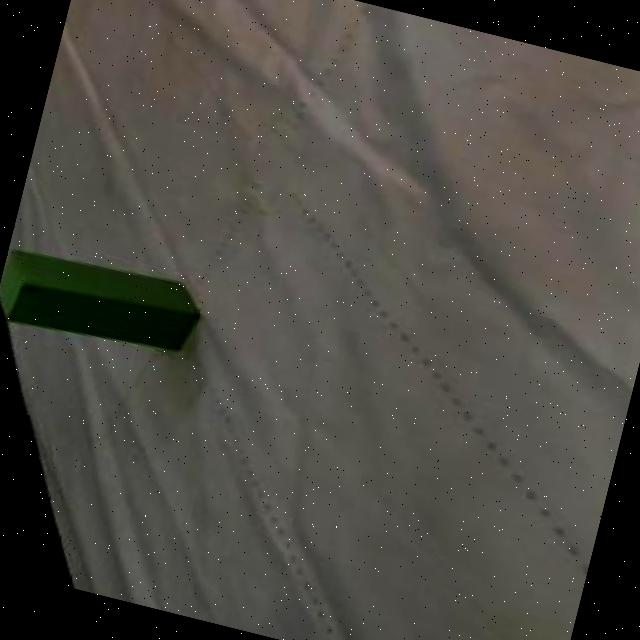greenbox: (0, 235, 209, 366)
